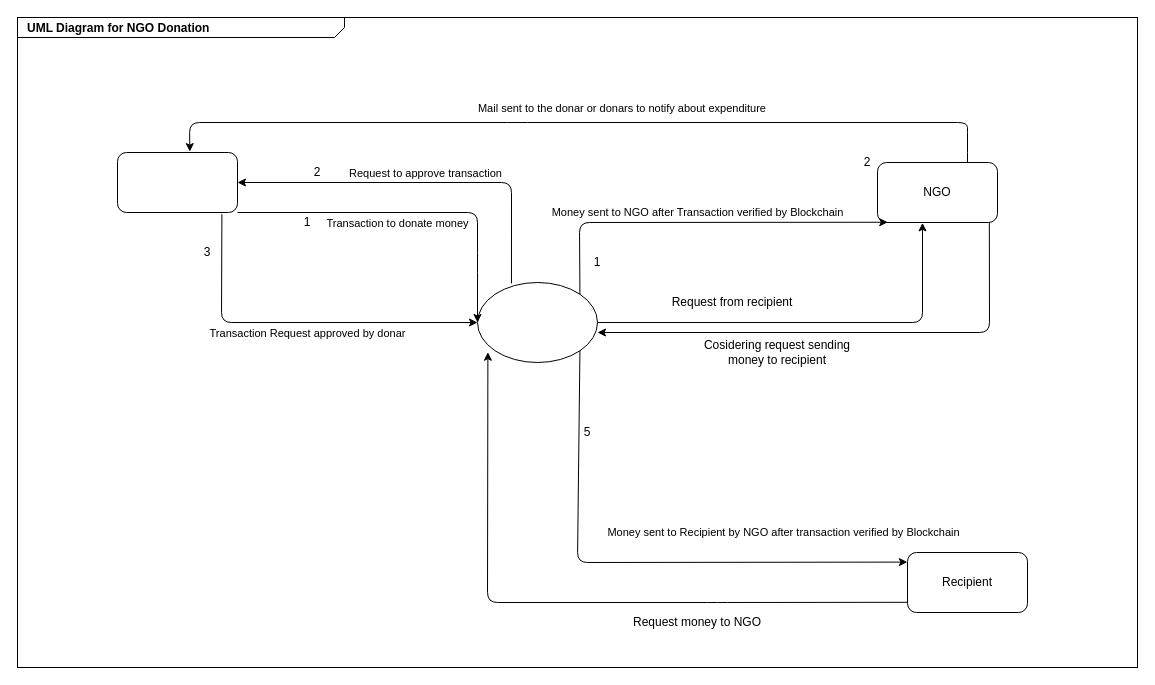
Image size: 1155x685. Some labels were removed from this diagram. Here are the shapes that lost their labels. From the top down, the box of each, then its label:
(116, 152, 238, 212): Donor
(476, 282, 598, 362): Blockchain Network
